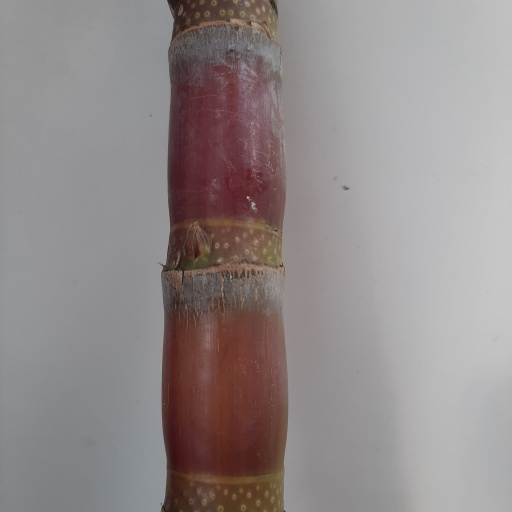Bud: (182, 221, 211, 262)
